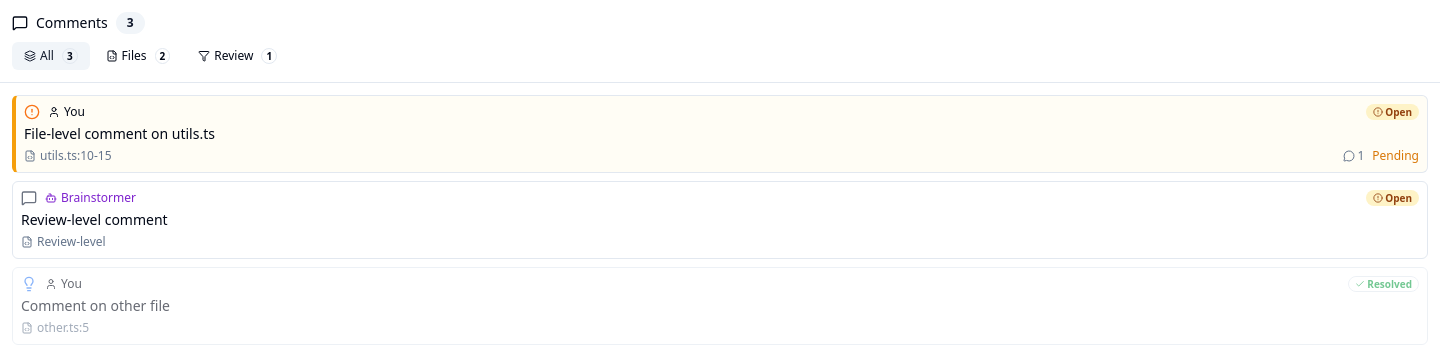
Test case: CommentPanel › file grouping › collapses and expands file group when chevron is clicked
The image size is (1440, 362).
expect the text "File-level comment on utils.ts" is shown: met, box [24,124,215,143]
Click Files filter
What coordinates should you click on to do the following:
click the button with aria-label "files filter"
I would click on:
 (138, 56)
Its box is [94,42,182,70].
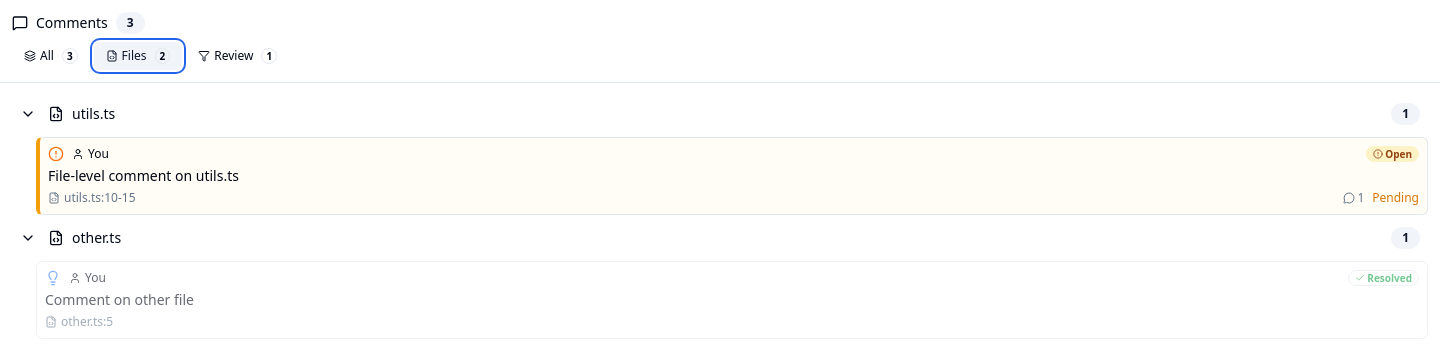
expect the text "File-level comment on utils.ts" is shown: met, box [48,166,239,185]
expect the element with test id "file-group-header" showing "utils.ts 1" is shown: met, box [12,95,1428,133]
Click the chevron (collapse button) to collapse - NOT the whole header
What coordinates should you click on to do the following:
click the 1st button named "collapse"
I would click on:
 (28, 114)
Its box is [12,98,44,130].
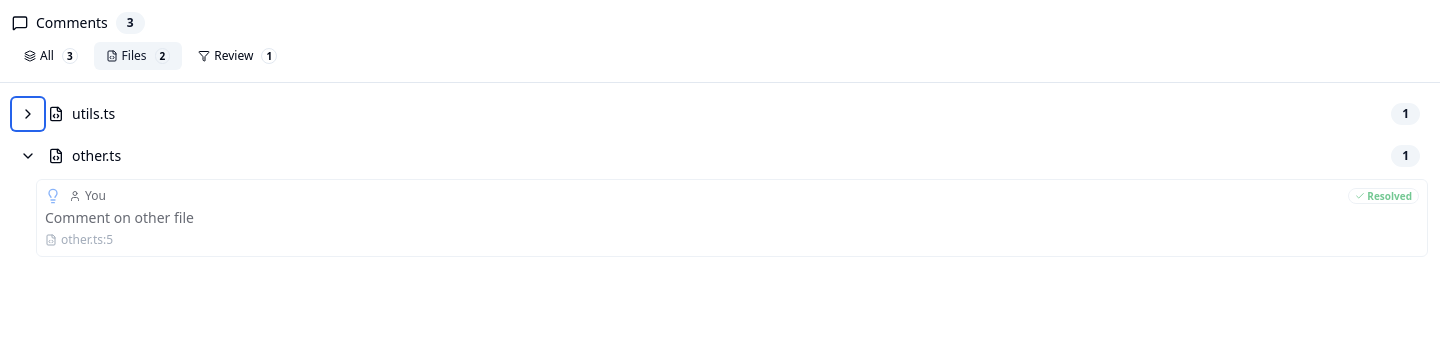
expect the element with test id "file-group-header" is collapsed: met, box [12,95,1428,133]
